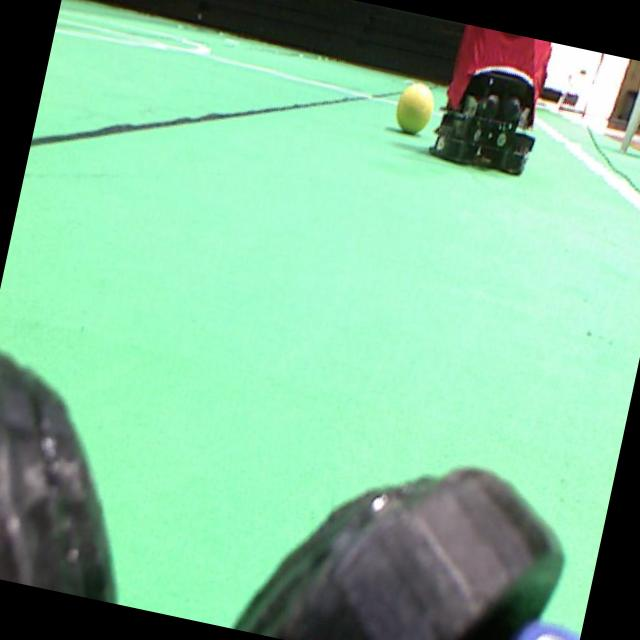ball: (396, 82, 433, 133)
